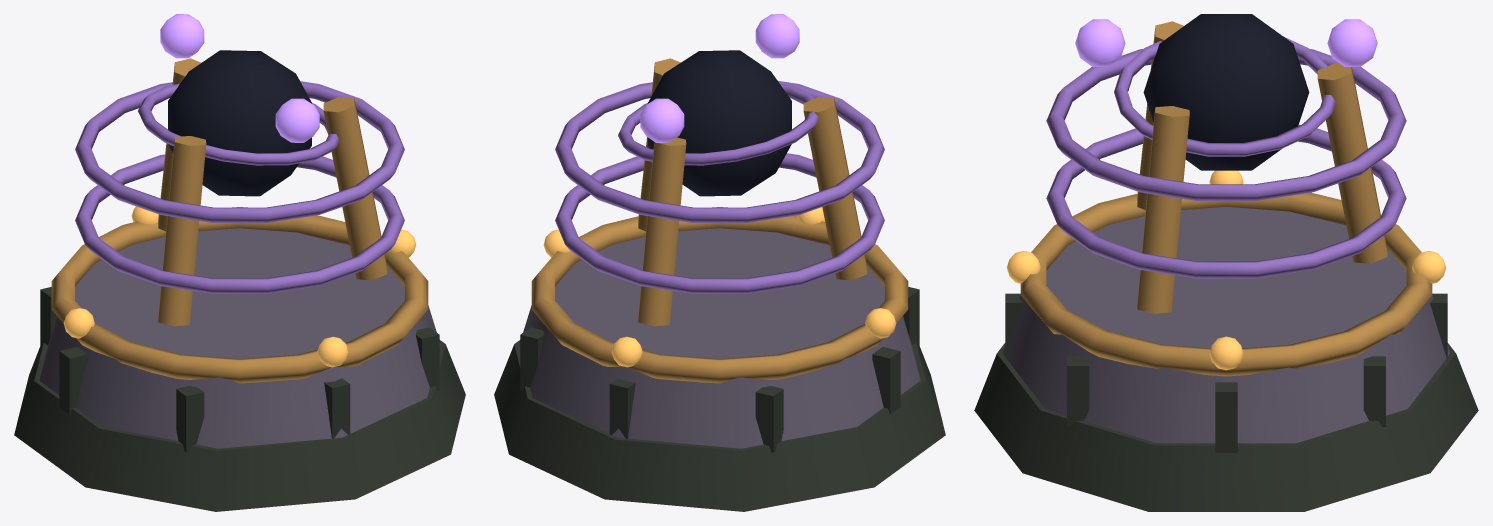
File: tower_gravity_gravityTide.glb
3 views of the same model, side by side, from view 1: azimuth 30°, elevation 25°; view 2: azimuth 150°, elevation 25°; view 3: azimuth 270°, elevation 25° (orthographic). The views are drawn at different scales.
Visible parts, largest first — view 1: stone_1, foot_0, rim_2, black_hole_15, pulse_21, pulse_20, claw_18, claw_17, accretion_19, satellite_22, satellite_23, mortar_6 (+7 smaller); view 2: stone_1, foot_0, rim_2, black_hole_15, pulse_21, pulse_20, claw_16, claw_18, accretion_19, satellite_23, satellite_22, mortar_8 (+7 smaller); view 3: stone_1, foot_0, black_hole_15, rim_2, pulse_21, pulse_20, claw_17, claw_16, accretion_19, satellite_22, satellite_23, mortar_3 (+8 smaller).
Part boxes in pixels (left/top/right/bottom): stone_1: left=39, top=228, right=440, bottom=448; foot_0: left=14, top=340, right=465, bottom=511; rim_2: left=51, top=207, right=428, bottom=383; black_hole_15: left=168, top=50, right=311, bottom=196; pulse_21: left=75, top=81, right=404, bottom=222; pulse_20: left=75, top=154, right=404, bottom=293; claw_18: left=158, top=136, right=206, bottom=326; claw_17: left=323, top=97, right=387, bottom=280; accretion_19: left=138, top=83, right=339, bottom=165; satellite_22: left=275, top=98, right=319, bottom=142; satellite_23: left=160, top=14, right=204, bottom=58; mortar_6: left=176, top=386, right=204, bottom=452; stone_1: left=519, top=228, right=920, bottom=448; foot_0: left=494, top=340, right=945, bottom=511; rim_2: left=531, top=207, right=908, bottom=383; black_hole_15: left=648, top=50, right=791, bottom=196; pulse_21: left=555, top=81, right=884, bottom=222; pulse_20: left=555, top=153, right=884, bottom=293; claw_16: left=638, top=137, right=686, bottom=326; claw_18: left=803, top=97, right=867, bottom=280; accretion_19: left=618, top=83, right=818, bottom=165; satellite_23: left=640, top=98, right=684, bottom=142; satellite_22: left=755, top=14, right=799, bottom=58; mortar_8: left=755, top=386, right=783, bottom=452; stone_1: left=1002, top=207, right=1450, bottom=443; foot_0: left=974, top=343, right=1478, bottom=511; black_hole_15: left=1143, top=14, right=1309, bottom=170; rim_2: left=1020, top=192, right=1432, bottom=376; pulse_21: left=1046, top=49, right=1406, bottom=200; pulse_20: left=1046, top=124, right=1406, bottom=278; claw_17: left=1137, top=106, right=1189, bottom=313; claw_16: left=1317, top=63, right=1387, bottom=263; accretion_19: left=1114, top=36, right=1335, bottom=156; satellite_22: left=1075, top=19, right=1125, bottom=66; satellite_23: left=1327, top=19, right=1377, bottom=66; mortar_3: left=1215, top=382, right=1237, bottom=452.
Bounding box in the file's own units: 0.5326 × 0.482 × 0.56.
